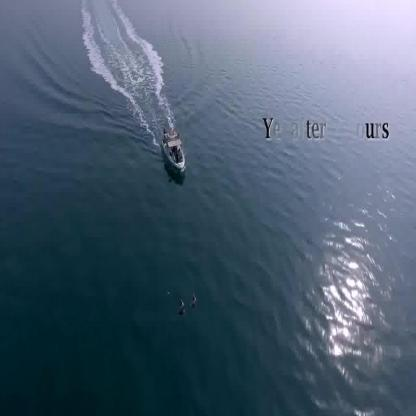Boat: (162, 129, 183, 174)
